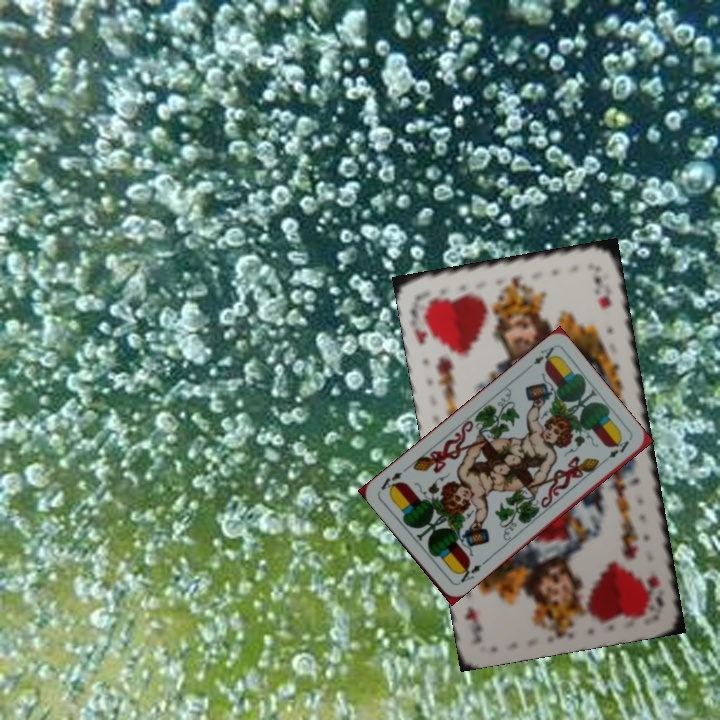EA: (522, 342, 558, 373), (454, 557, 488, 588)
HK: (406, 296, 437, 347), (641, 570, 666, 611)
